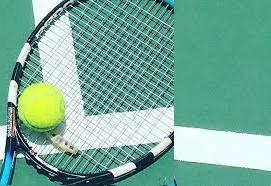tennis ball: (110, 83, 156, 131)
tennis racket: (0, 0, 174, 185)
